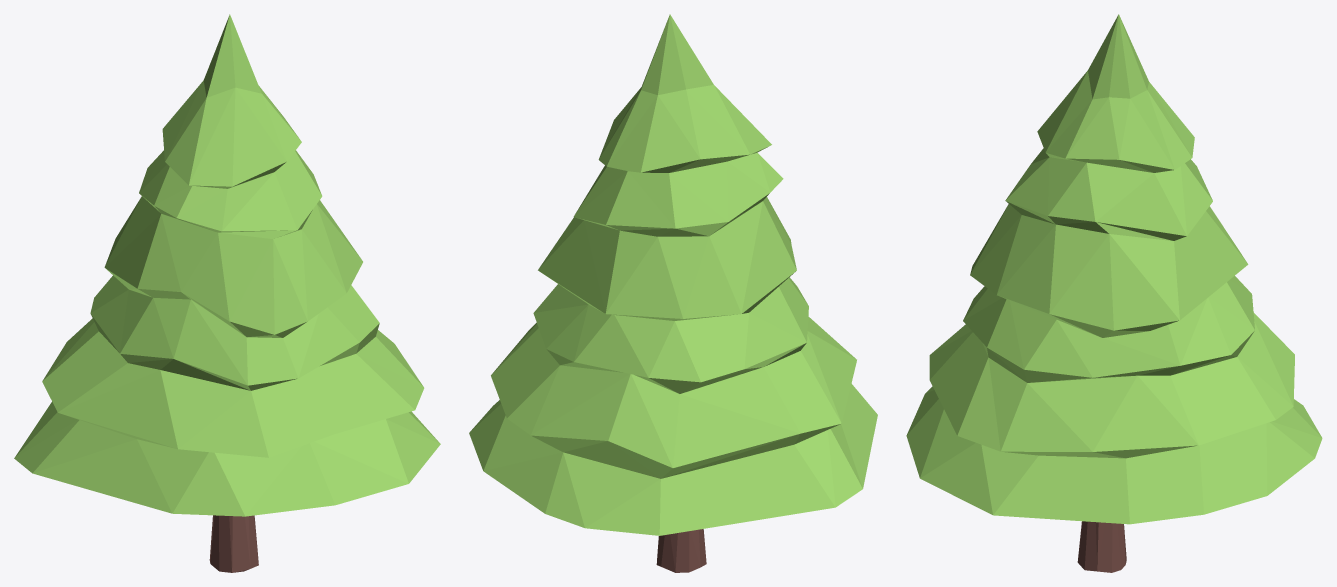
Rendered from arbol2.gltf.
3 renders of one model, left to right at view 1: azimuth 30°, elevation 25°; view 2: azimuth 150°, elevation 25°; view 3: azimuth 270°, elevation 25°, orthographic. The views are drawn at different scales.
Parts seen in each view (by area): view 1: trunk; view 2: trunk; view 3: trunk.
Part boxes in pixels (bbox=[...]): trunk: bbox=[14, 14, 440, 572]; trunk: bbox=[469, 14, 877, 572]; trunk: bbox=[906, 14, 1322, 572].
Bounding box in the file's own units: 6.24 × 8.98 × 6.13.
